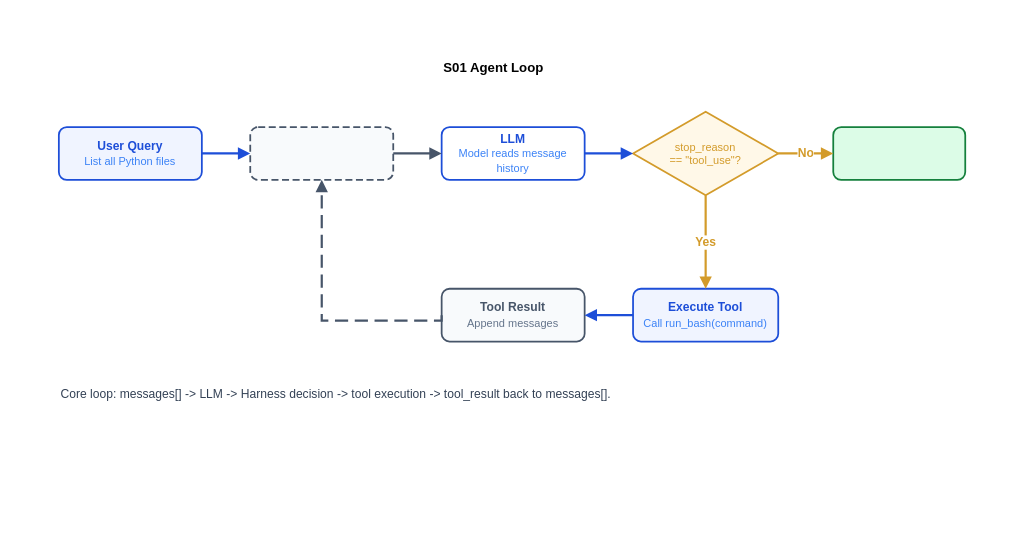
The diagram is 1027 pixels wide and 543 high, and some of its shapes have lost their labels. The centre of each missing label's shape, as x and y in pixels:
messages[] Accumulated message list: point 321,153
Return Result Loop Ends: point 899,153
